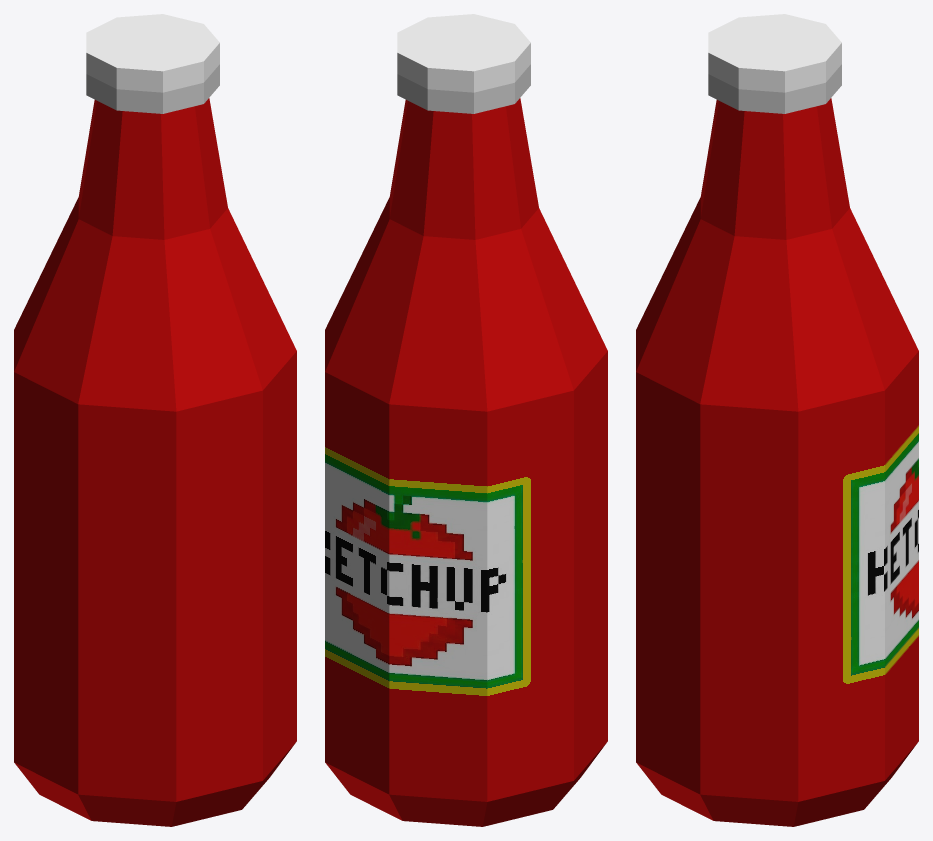
Rendered from ketchup.glb.
The picture shows the model from 3 angles, left to right: view 1: azimuth 30°, elevation 25°; view 2: azimuth 150°, elevation 25°; view 3: azimuth 270°, elevation 25°; orthographic projection.
Visible parts, largest first — view 1: Ketchup; view 2: Ketchup; view 3: Ketchup.
Part boxes in pixels (x1,y1,x2,y2): Ketchup: (14, 14, 296, 826); Ketchup: (325, 14, 607, 826); Ketchup: (636, 14, 918, 826).
Size of the model in its own units: 1.97 by 5.56 by 1.94.
1 material, 1 textured.
